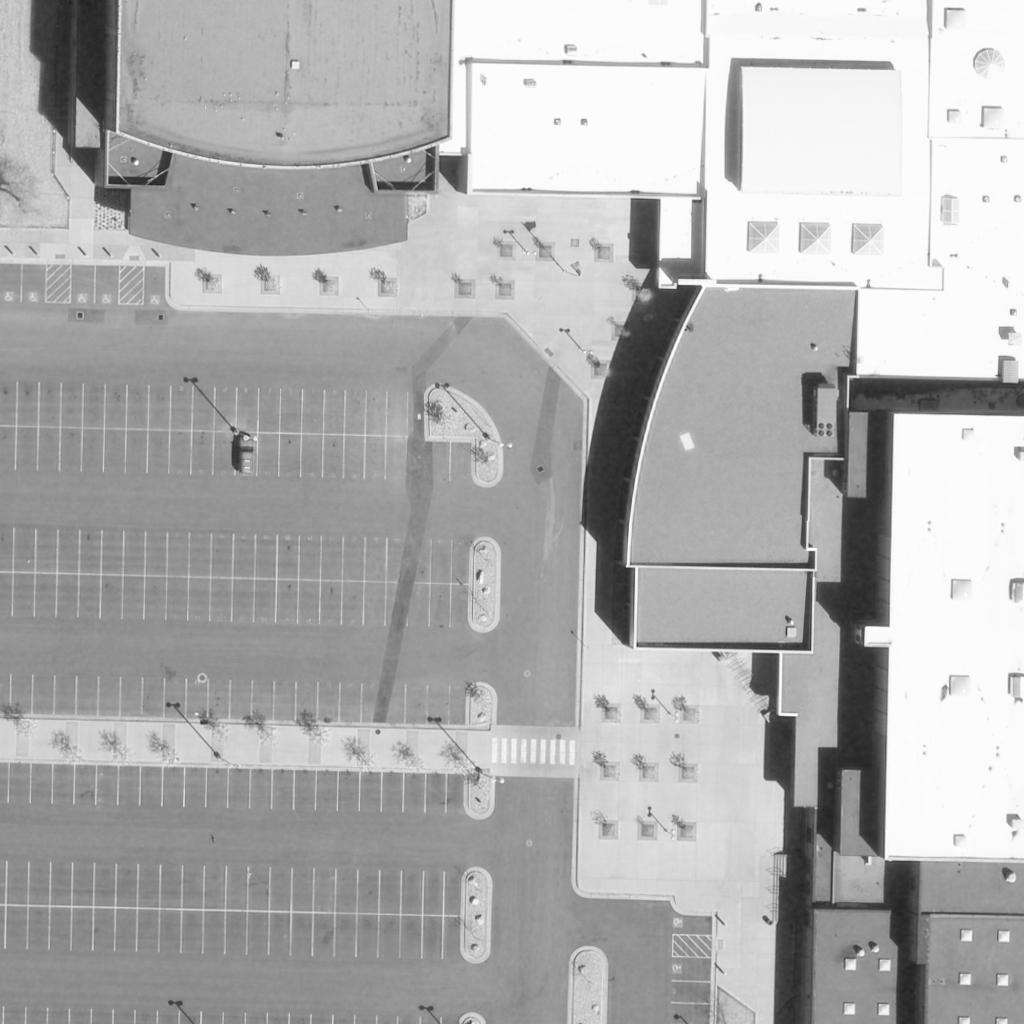vehicle: (238, 439, 254, 475)
